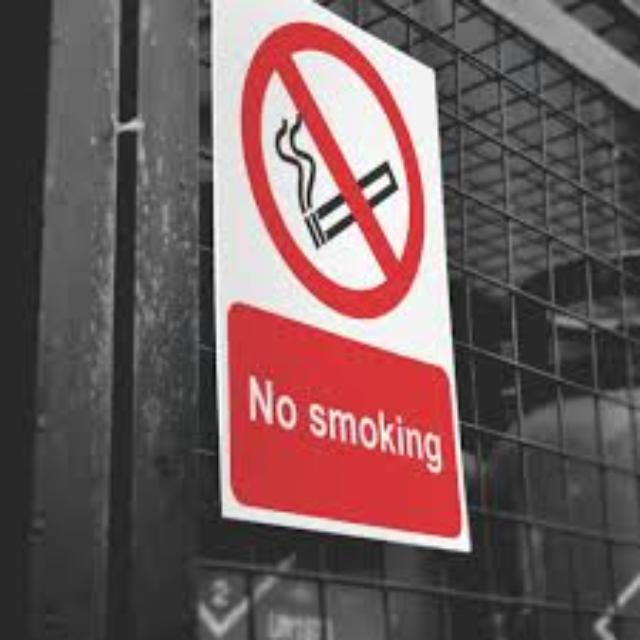cam hut thuoc: (213, 0, 466, 549)
